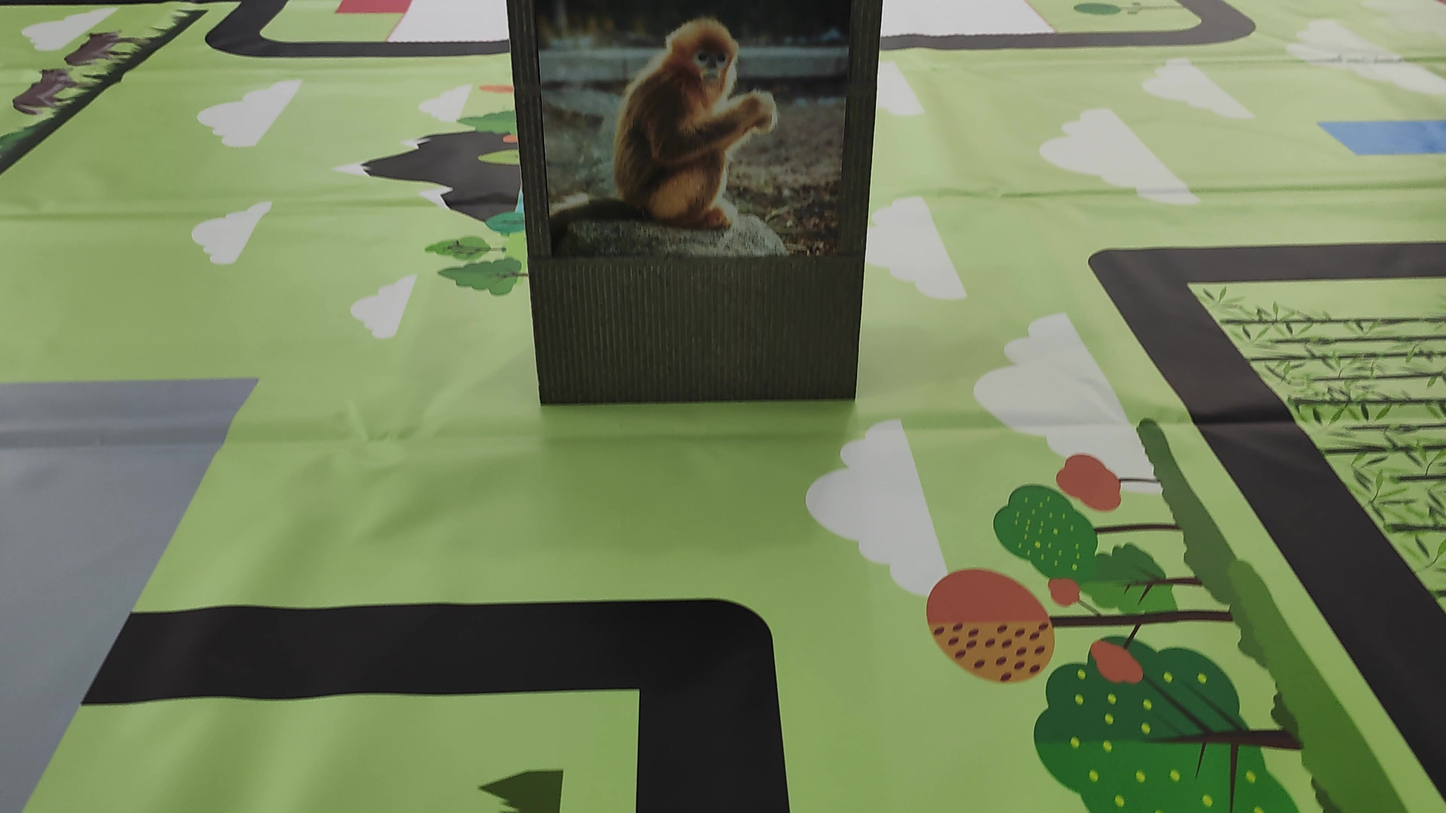monkey: (576, 15, 823, 248)
